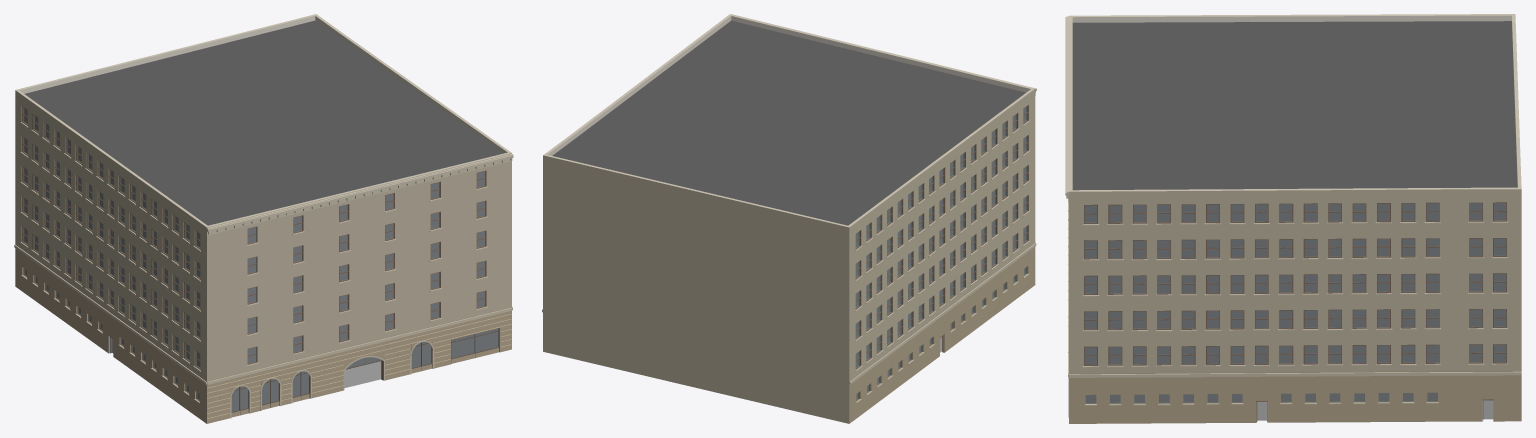
The model's file is exterior.glb.
3 views of the same model, side by side, from view 1: azimuth 30°, elevation 25°; view 2: azimuth 150°, elevation 25°; view 3: azimuth 270°, elevation 25° (orthographic). The views are drawn at different scales.
Visible parts, largest first — view 1: shell, roof, glazing, shadow-proxy, trim, frames, hyD-rubble-2, storefront, hyC-arches-2; view 2: shell, roof, glazing, frames, shadow-proxy, trim; view 3: shell, roof, glazing, shadow-proxy, frames, trim.
Part boxes in pixels (<box>): shell: <box>15,14,511,423</box>; roof: <box>25,20,502,225</box>; glazing: <box>23,107,498,411</box>; shadow-proxy: <box>24,108,497,411</box>; trim: <box>14,122,513,403</box>; frames: <box>22,106,486,369</box>; hyD-rubble-2: <box>207,314,511,418</box>; storefront: <box>108,328,499,417</box>; hyC-arches-2: <box>230,339,434,418</box>; shell: <box>543,14,1035,423</box>; roof: <box>552,20,1025,225</box>; glazing: <box>855,106,1027,400</box>; frames: <box>855,105,1028,369</box>; shadow-proxy: <box>856,107,1025,398</box>; trim: <box>542,14,1036,403</box>; shell: <box>1069,14,1521,423</box>; roof: <box>1072,21,1517,190</box>; glazing: <box>1084,203,1506,403</box>; shadow-proxy: <box>1085,203,1505,420</box>; frames: <box>1084,202,1506,365</box>; trim: <box>1065,16,1521,405</box>.
Size of the model in its own units: 39.65 by 24.01 by 42.75.
